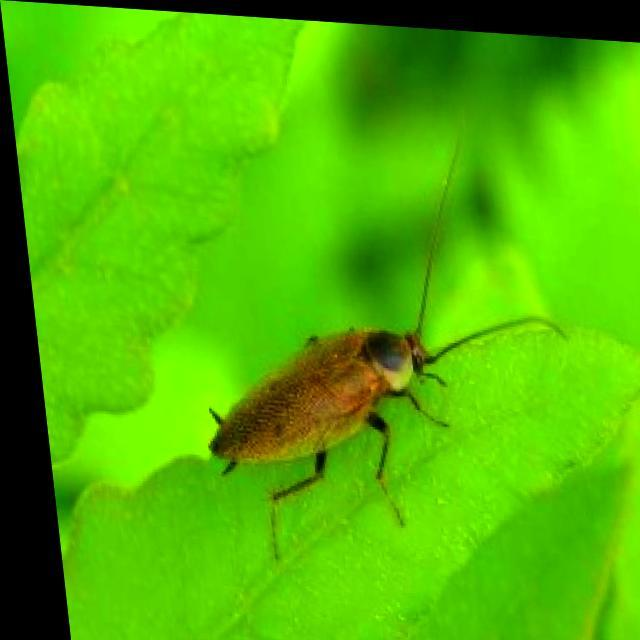cockroach: (202, 132, 567, 567)
